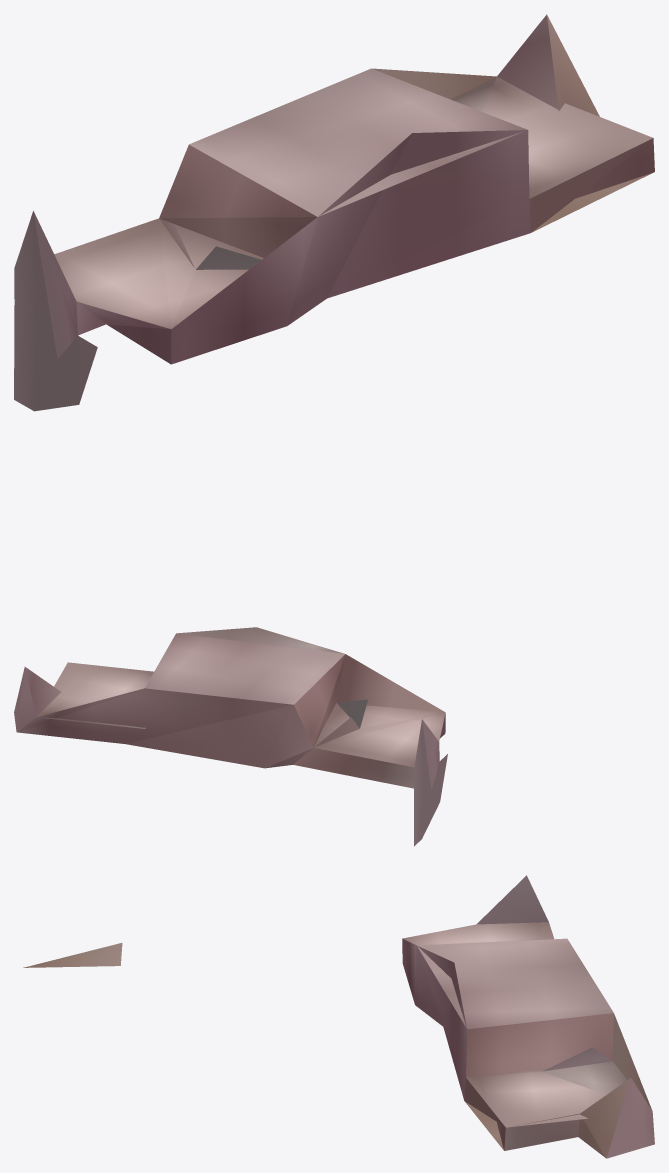
3 views of the same model, one above another, from view 1: azimuth 30°, elevation 25°; view 2: azimuth 150°, elevation 25°; view 3: azimuth 270°, elevation 25° (orthographic). The views are drawn at different scales.
Visible parts, largest first — view 1: Mesh_0; view 2: Mesh_0; view 3: Mesh_0.
Part boxes in pixels (x1=…): Mesh_0: x1=14, y1=14, x2=654, y2=411; Mesh_0: x1=14, y1=627, x2=447, y2=846; Mesh_0: x1=23, y1=875, x2=654, y2=1158.
Bounding box in the file's own units: 51.93 × 17.74 × 62.25.
Materials: 1 (1 with a texture image).
